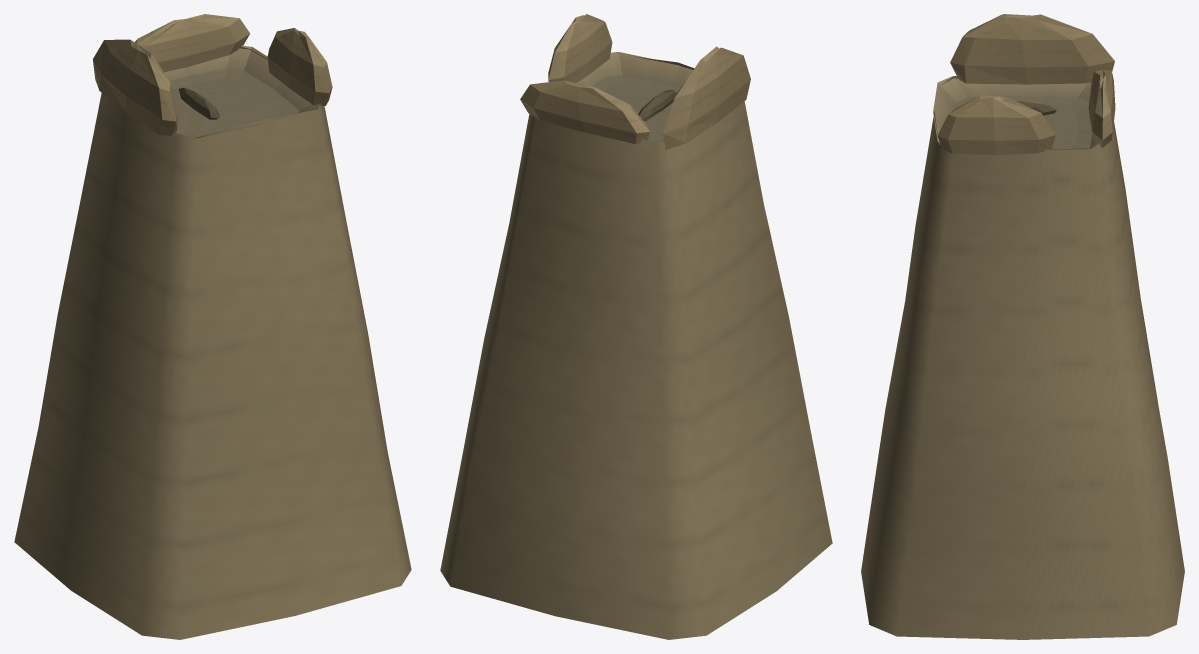
The model's file is beacon-han-lod1.glb.
3 views of the same model, side by side, from view 1: azimuth 30°, elevation 25°; view 2: azimuth 150°, elevation 25°; view 3: azimuth 270°, elevation 25° (orthographic).
Size of the model in its own units: 0.216 by 0.3838 by 0.216.
Materials: 1 (1 with a texture image).
